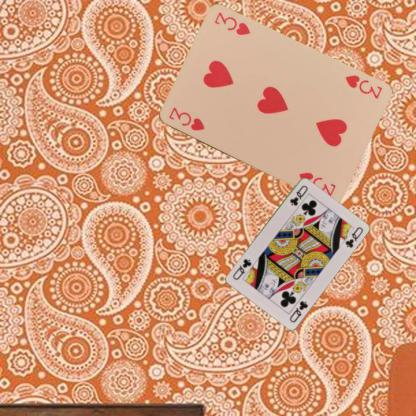3h: (341, 72, 384, 101), (165, 105, 206, 132)
Qc: (287, 298, 309, 324), (287, 182, 309, 207)
